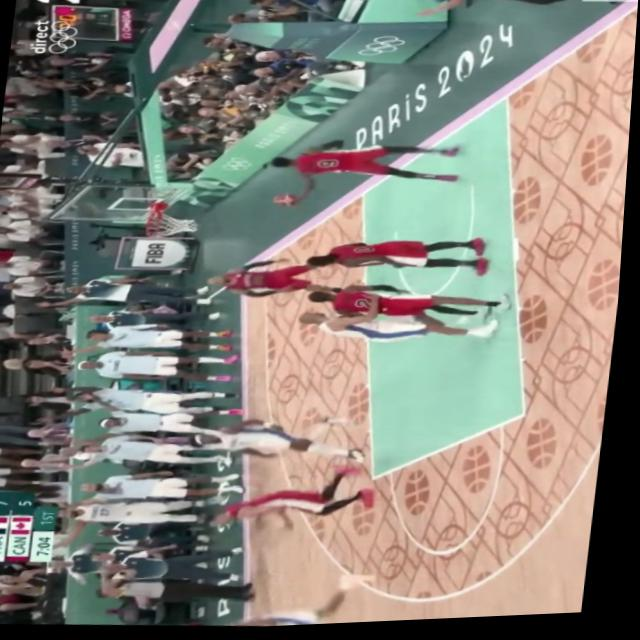ball_handler: (251, 132, 475, 220)
